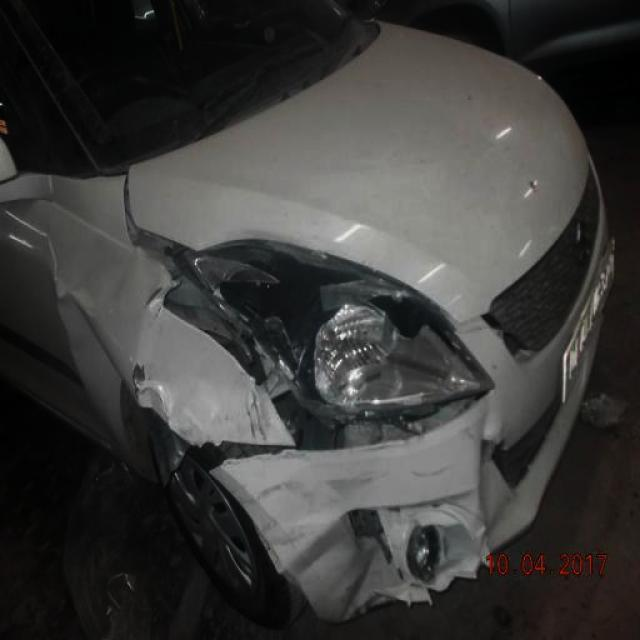car damage: (113, 173, 508, 628), (157, 231, 498, 456)
